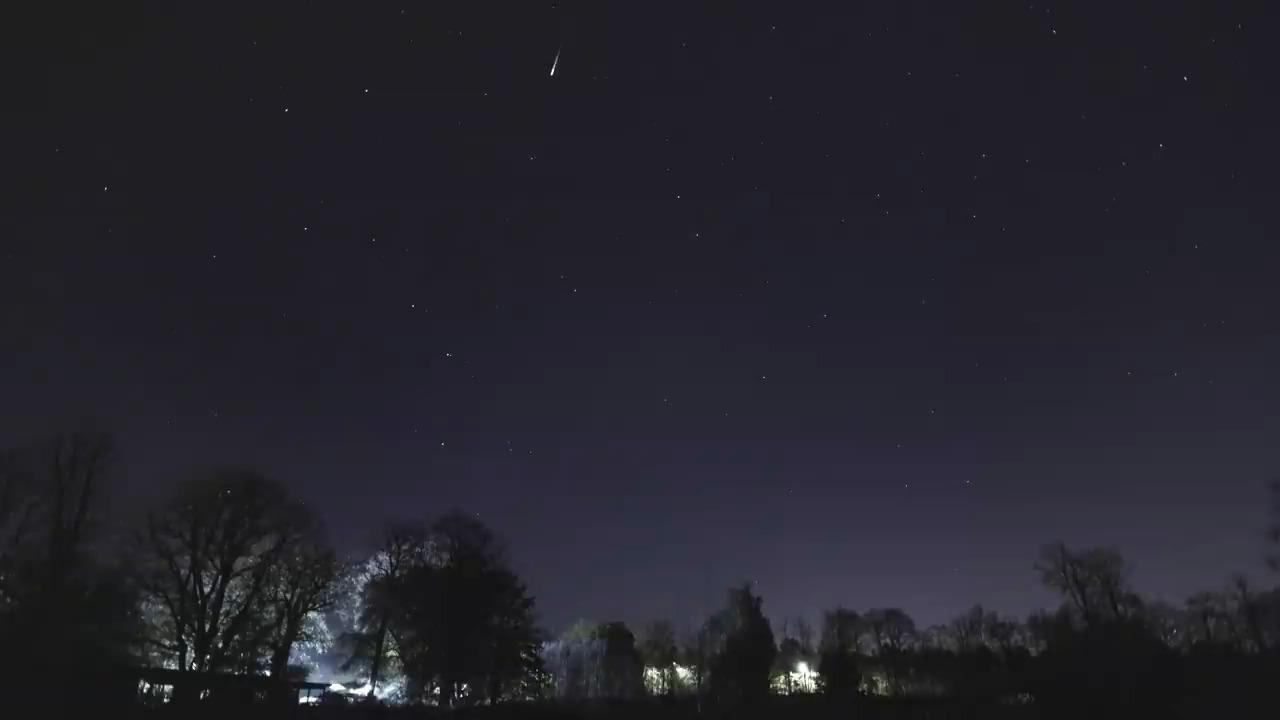meteorite: (502, 45, 613, 80)
